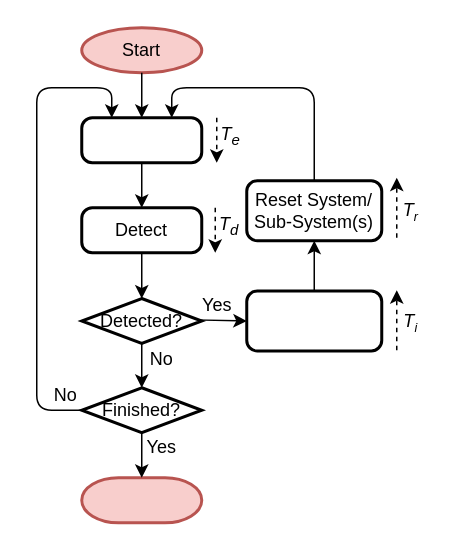
This 459x549 diagram has some shape labels left out. The shapes that lost their labels are listed below. From the top down, each one's centre as x and y in pixels, then its label:
At (141,140): "Execute".
At (313,320): "Isolate Affected Sub-System(s)".
At (141,500): "End".
